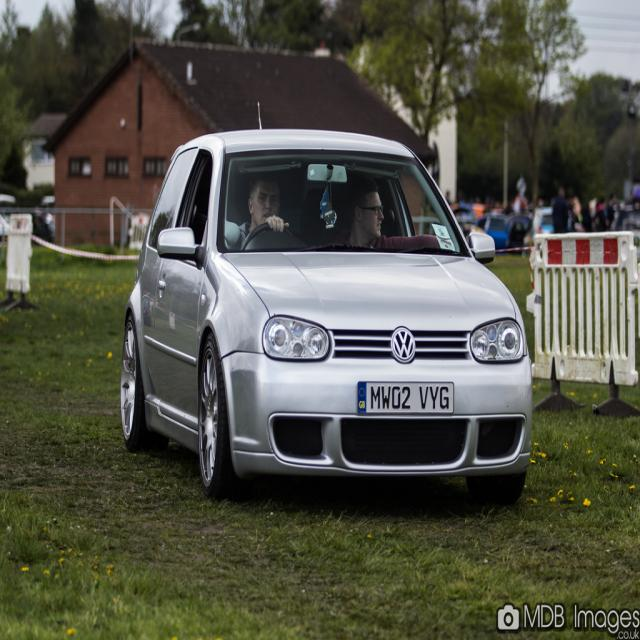other: (117, 101, 531, 496), (477, 215, 505, 258), (507, 214, 529, 250), (532, 210, 558, 233)
